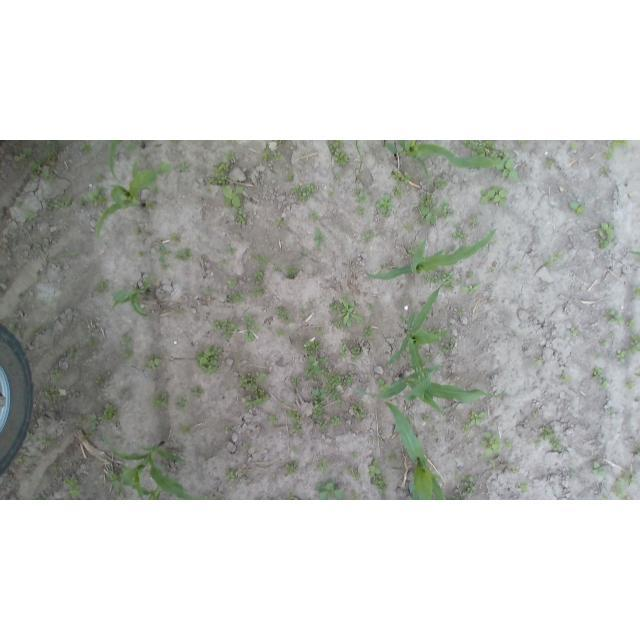Maize: (354, 363, 506, 414), (365, 227, 497, 283), (384, 284, 456, 379), (103, 434, 206, 500), (381, 400, 448, 501), (93, 162, 175, 243), (384, 140, 508, 176), (113, 274, 160, 325), (107, 140, 153, 185)
Weeds: (237, 371, 276, 410), (331, 298, 364, 329), (323, 372, 354, 405), (194, 345, 225, 377), (466, 141, 510, 160), (218, 183, 248, 209), (478, 186, 510, 210), (316, 480, 352, 500), (421, 192, 440, 229), (369, 462, 390, 495), (78, 189, 109, 211), (326, 140, 352, 166), (492, 160, 520, 184), (309, 385, 328, 420), (425, 272, 456, 293), (596, 220, 616, 252), (603, 140, 631, 161), (481, 431, 503, 457), (292, 182, 317, 204), (304, 356, 330, 377), (287, 412, 308, 437), (47, 196, 76, 214), (233, 206, 254, 230), (120, 331, 136, 362), (213, 321, 239, 340), (64, 475, 84, 499), (451, 222, 471, 245), (244, 314, 260, 342), (102, 403, 123, 424), (376, 193, 393, 218), (439, 337, 460, 357), (153, 392, 172, 413), (462, 474, 478, 498), (304, 339, 324, 358), (276, 307, 294, 328), (627, 330, 640, 359), (312, 227, 328, 250), (468, 411, 488, 429), (568, 200, 589, 217), (87, 411, 104, 432), (438, 199, 454, 221), (13, 145, 32, 163), (216, 161, 232, 182), (605, 308, 624, 325), (42, 141, 59, 160), (223, 466, 243, 482), (618, 472, 639, 487), (225, 291, 247, 305), (176, 248, 194, 264), (204, 284, 222, 300), (41, 388, 59, 404), (208, 175, 233, 186), (146, 354, 163, 370), (252, 269, 267, 287), (460, 283, 480, 296), (612, 484, 628, 500), (592, 461, 608, 477), (540, 424, 556, 440), (284, 462, 300, 478), (355, 187, 370, 204), (107, 472, 122, 489), (361, 324, 375, 342), (351, 403, 365, 421), (157, 245, 170, 264), (23, 209, 42, 222), (76, 141, 92, 156), (350, 346, 365, 362), (190, 385, 205, 401), (336, 342, 349, 360), (98, 278, 111, 296), (507, 463, 526, 475), (236, 442, 252, 456), (346, 467, 362, 481), (362, 227, 375, 244), (176, 394, 189, 411), (450, 489, 470, 500), (393, 172, 411, 184), (286, 267, 300, 282), (266, 413, 281, 427), (317, 462, 331, 477), (263, 145, 274, 164), (541, 155, 553, 172), (16, 320, 26, 340), (403, 221, 417, 235), (392, 185, 406, 199), (252, 285, 266, 299), (83, 334, 97, 348), (181, 423, 195, 437), (31, 159, 44, 174), (434, 177, 450, 189), (227, 150, 239, 166), (290, 375, 302, 391), (0, 275, 10, 294), (320, 418, 333, 432), (273, 147, 286, 161), (176, 161, 190, 174), (169, 233, 183, 246), (616, 348, 628, 363), (530, 358, 546, 369), (378, 379, 391, 392), (41, 168, 54, 181), (175, 306, 189, 318), (40, 436, 54, 448), (432, 427, 443, 442), (591, 365, 602, 380), (552, 438, 565, 450), (600, 378, 613, 390), (274, 217, 287, 229), (53, 368, 66, 380), (224, 427, 236, 440), (227, 278, 241, 289), (625, 316, 636, 330), (510, 262, 524, 273), (551, 251, 565, 262), (469, 214, 480, 228), (310, 210, 321, 224), (332, 415, 343, 429), (63, 347, 77, 358), (561, 374, 574, 385), (32, 323, 43, 336), (284, 173, 297, 184), (314, 327, 327, 338), (487, 457, 496, 472), (349, 451, 361, 462), (276, 329, 288, 340), (569, 141, 581, 152), (16, 455, 27, 467), (258, 257, 271, 267), (631, 285, 640, 299), (375, 435, 386, 446), (367, 303, 378, 314), (599, 165, 610, 176), (356, 205, 367, 216), (531, 410, 541, 422), (217, 258, 232, 266), (298, 307, 308, 319), (422, 410, 430, 424), (519, 483, 530, 493), (625, 380, 635, 391), (225, 244, 236, 254), (95, 374, 105, 385), (9, 322, 18, 334), (504, 438, 512, 451), (513, 328, 523, 338), (278, 399, 288, 409), (569, 329, 581, 337), (465, 272, 475, 281), (543, 259, 553, 268), (334, 172, 343, 182), (327, 190, 337, 199), (273, 264, 283, 273), (633, 447, 640, 459), (462, 426, 471, 435), (595, 352, 604, 361), (251, 252, 260, 261), (136, 227, 144, 237), (287, 492, 297, 500), (160, 263, 168, 272), (137, 250, 145, 259), (51, 466, 59, 475), (599, 340, 609, 347), (147, 201, 154, 211), (274, 141, 287, 146), (456, 310, 464, 318), (607, 330, 616, 337), (31, 434, 40, 441), (518, 140, 526, 145)
